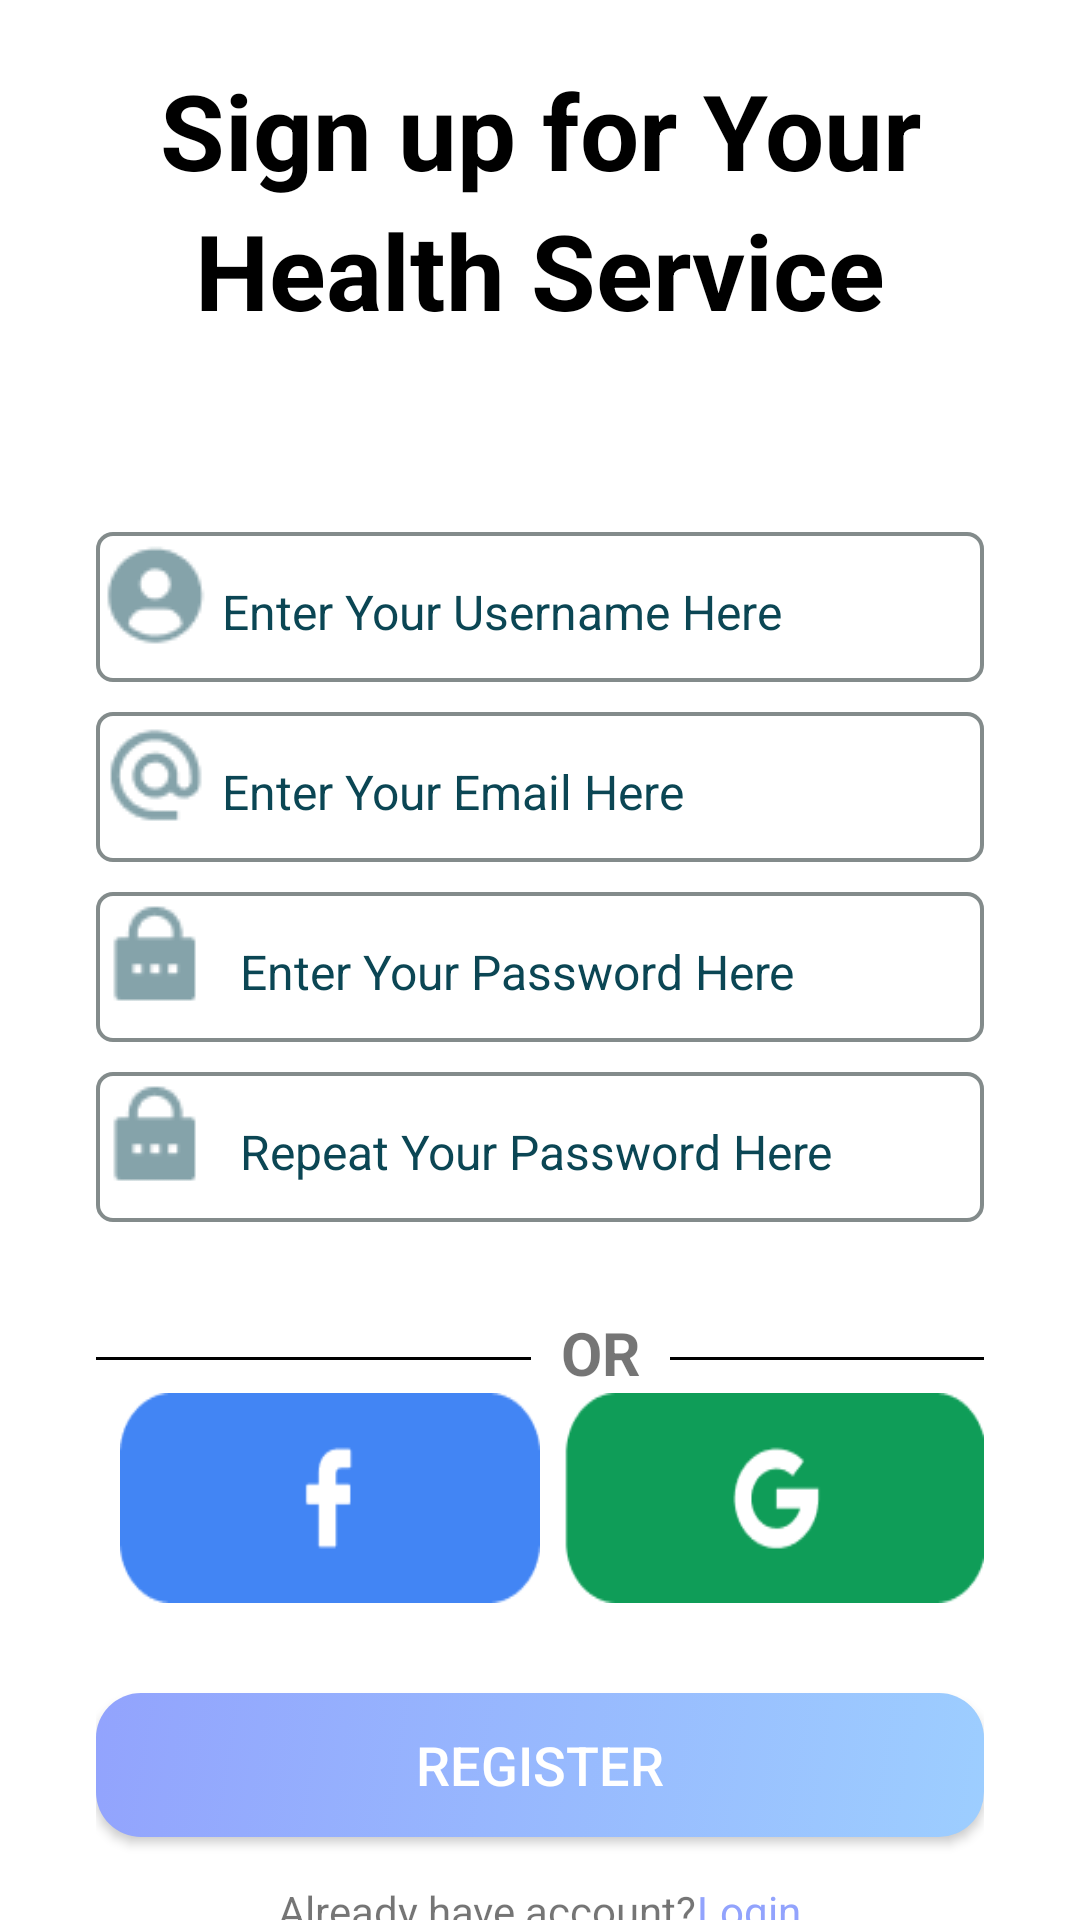

Locate icon controls on the screen. Image size 1080w x 1920h, boxes as (left=x1, top=y1, right=x2, bottom=y2).
personal: (left=107, top=548, right=203, bottom=644)
